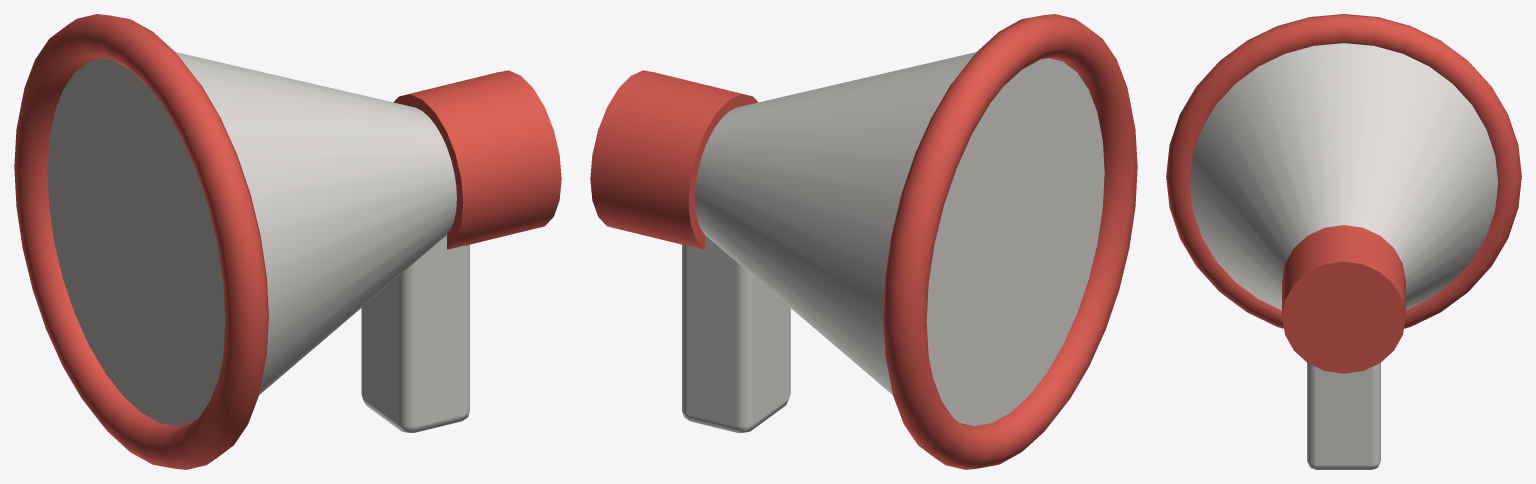
The model's file is school-megaphone.glb.
3 views of the same model, side by side, from view 1: azimuth 30°, elevation 25°; view 2: azimuth 150°, elevation 25°; view 3: azimuth 270°, elevation 25° (orthographic). The views are drawn at different scales.
Parts seen in each view (by area): view 1: horn, horn-rim, rear, handle; view 2: horn, horn-rim, rear, handle; view 3: horn, horn-rim, rear, handle.
Part boxes in pixels (x1=…): horn: x1=47, y1=52, x2=456, y2=426; horn-rim: x1=14, y1=14, x2=268, y2=469; rear: x1=393, y1=70, x2=561, y2=249; handle: x1=361, y1=235, x2=469, y2=432; horn: x1=695, y1=52, x2=1104, y2=426; horn-rim: x1=883, y1=14, x2=1137, y2=469; rear: x1=590, y1=70, x2=758, y2=249; handle: x1=682, y1=235, x2=790, y2=432; horn: x1=1190, y1=43, x2=1497, y2=310; horn-rim: x1=1166, y1=14, x2=1521, y2=328; rear: x1=1282, y1=225, x2=1405, y2=373; handle: x1=1307, y1=363, x2=1380, y2=469.
Bounding box in the file's own units: 1.13 × 1.22 × 1.15.
